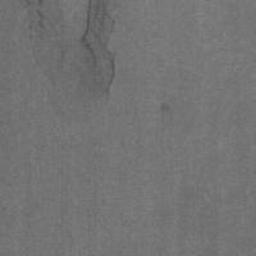Water spot: (9, 0, 119, 125), (159, 101, 174, 128)
